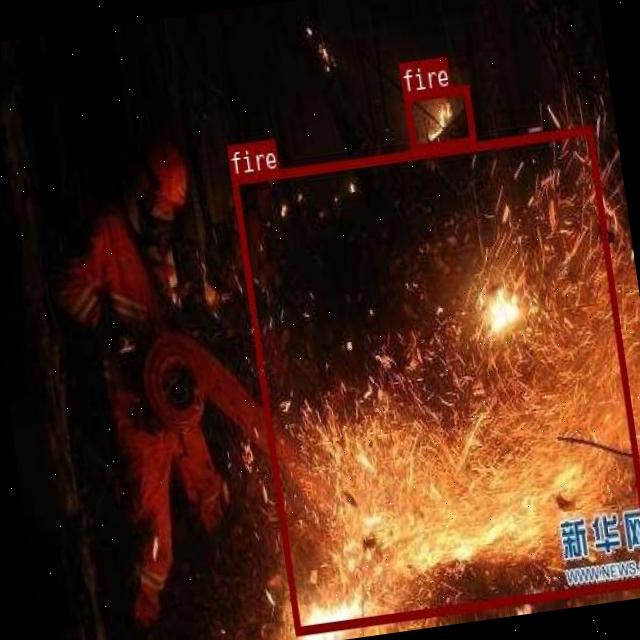fire: (231, 125, 640, 634), (402, 83, 476, 151)
